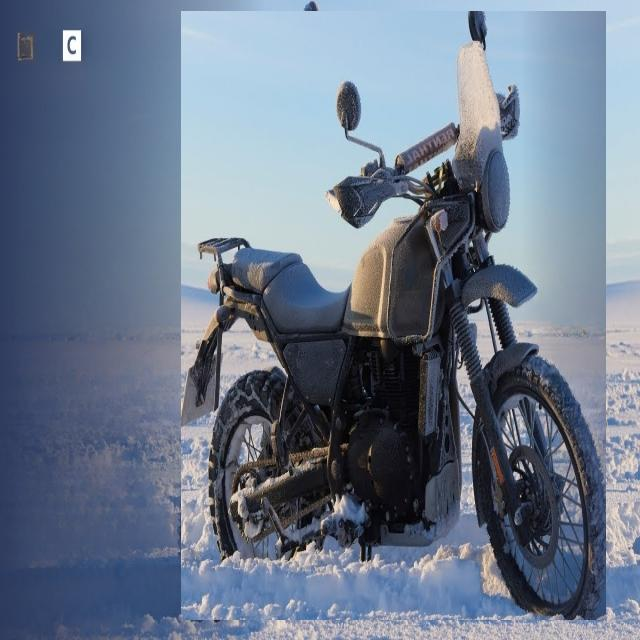motorcycle: (181, 11, 606, 620)
